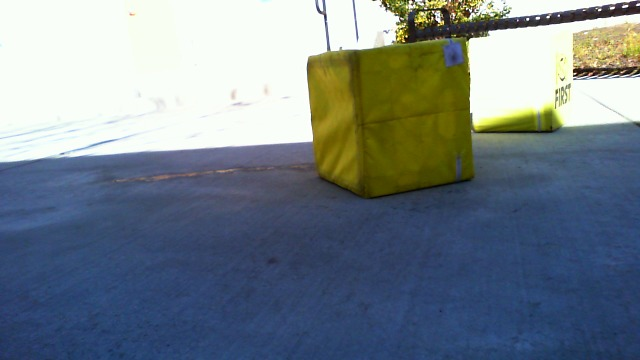cube: (306, 39, 473, 201), (472, 27, 578, 140)
